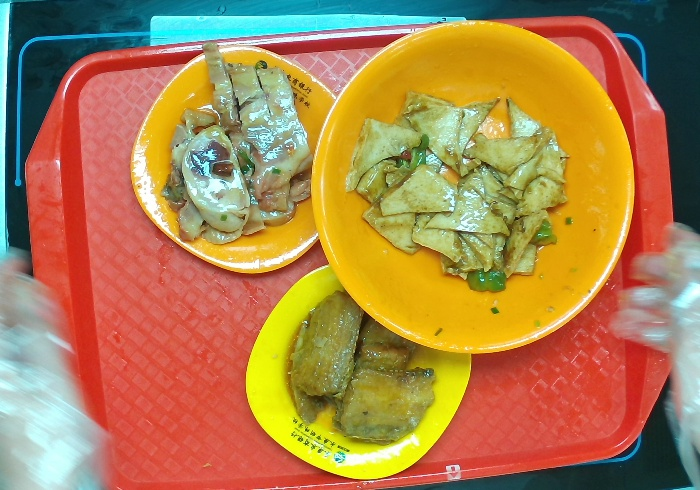YKMZ-Huang_Se_Fang_Die: (242, 261, 475, 484)
YKMZ-Ju_Se_Fang_Die: (128, 45, 342, 276)
YKMZ-Ju_Se_Tang_Wan: (310, 19, 637, 353)
